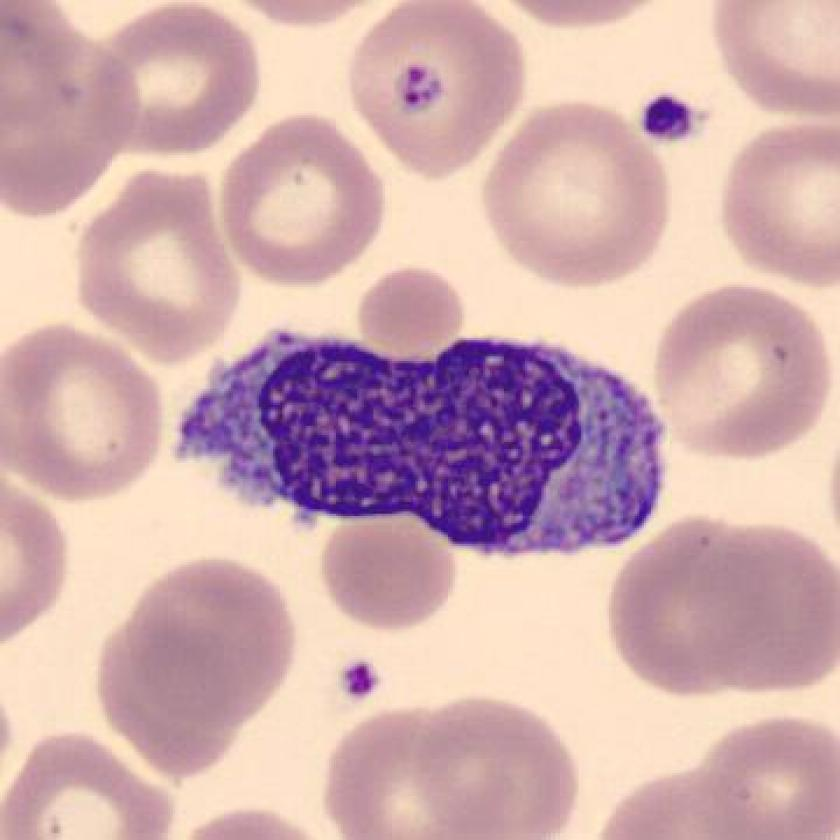monocyte: (160, 302, 689, 579)
